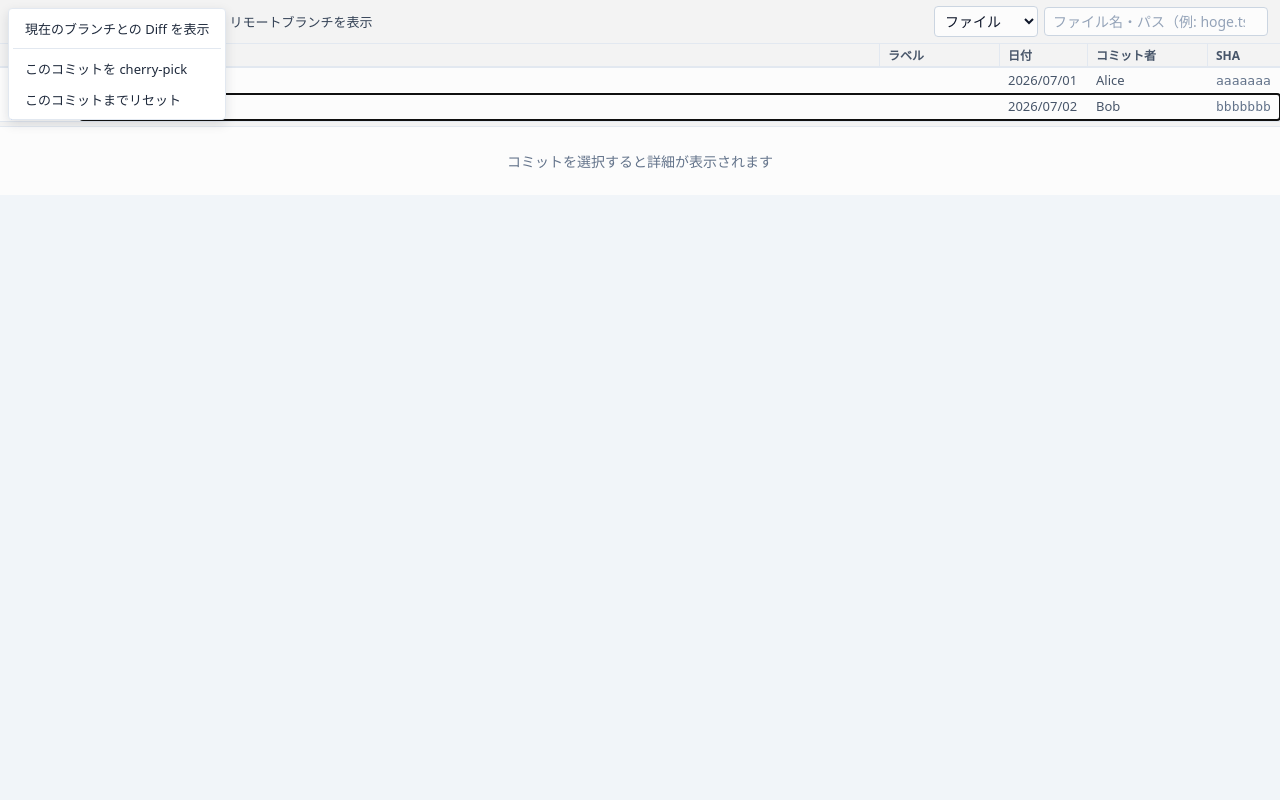
Test case: HistoryView › skips empty cherry-pick and shows explanation
Click the menu item "このコミットを cherry-pick". click: click(117, 68)
box: [13, 53, 221, 84]
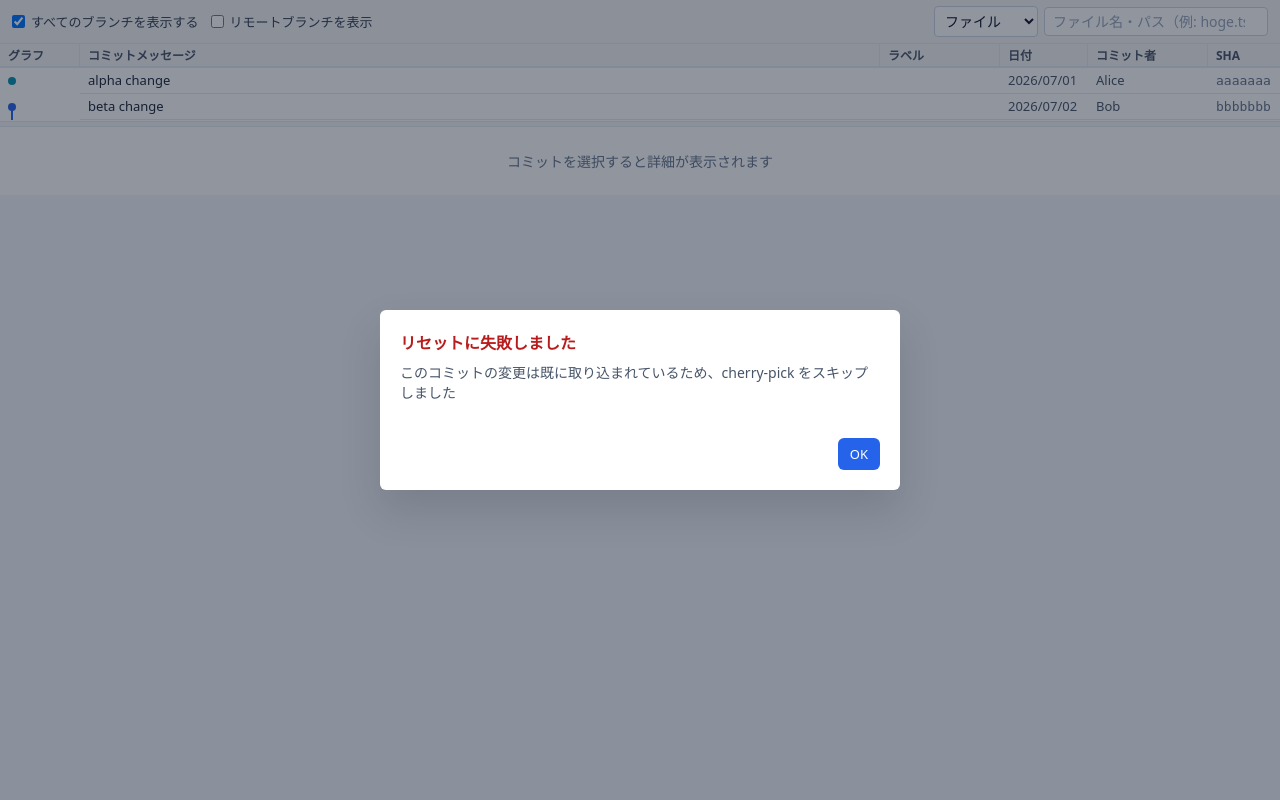
Expected: the text "このコミットの変更は既に取り込まれているため、cherry-pick をスキップしました" is shown, [400, 362, 880, 402]
